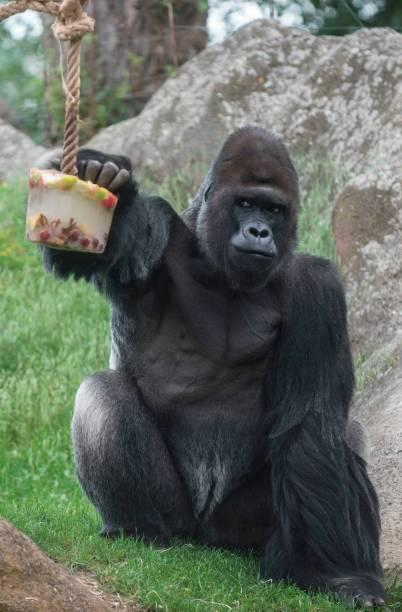gorille_Autres: (134, 109, 378, 589)
